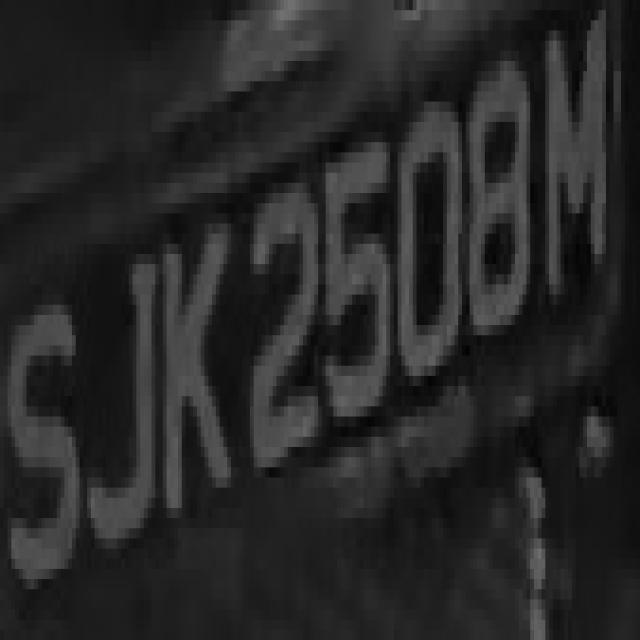0: (390, 81, 458, 396)
2: (235, 152, 322, 478)
5: (310, 101, 402, 436)
8: (458, 51, 534, 345)
J: (72, 213, 155, 579)
K: (159, 193, 242, 559)
M: (530, 10, 610, 335)
S: (8, 254, 83, 599)
